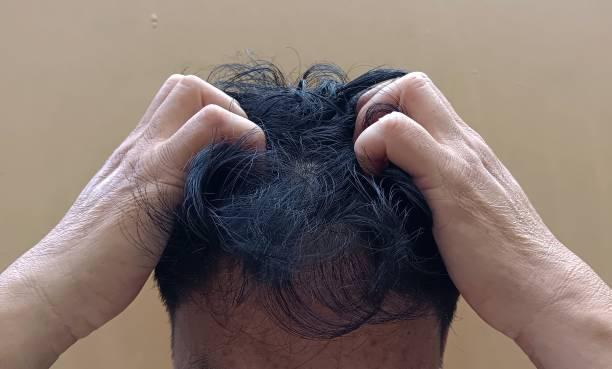dry hair: (226, 59, 359, 107), (256, 206, 286, 284)
low hair density: (291, 154, 321, 187)
